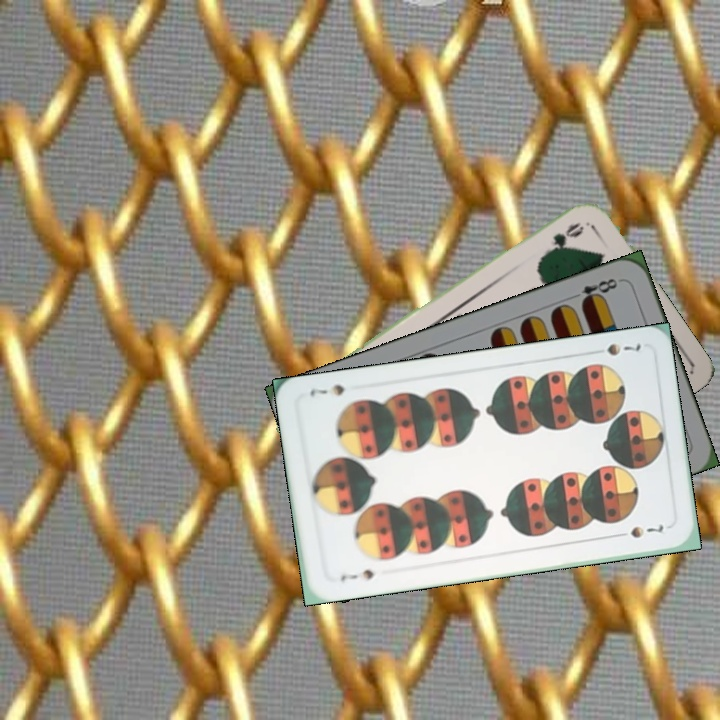E8: (567, 274, 624, 308)
GO: (538, 218, 587, 260)
S7: (586, 339, 644, 359), (336, 565, 377, 584)
